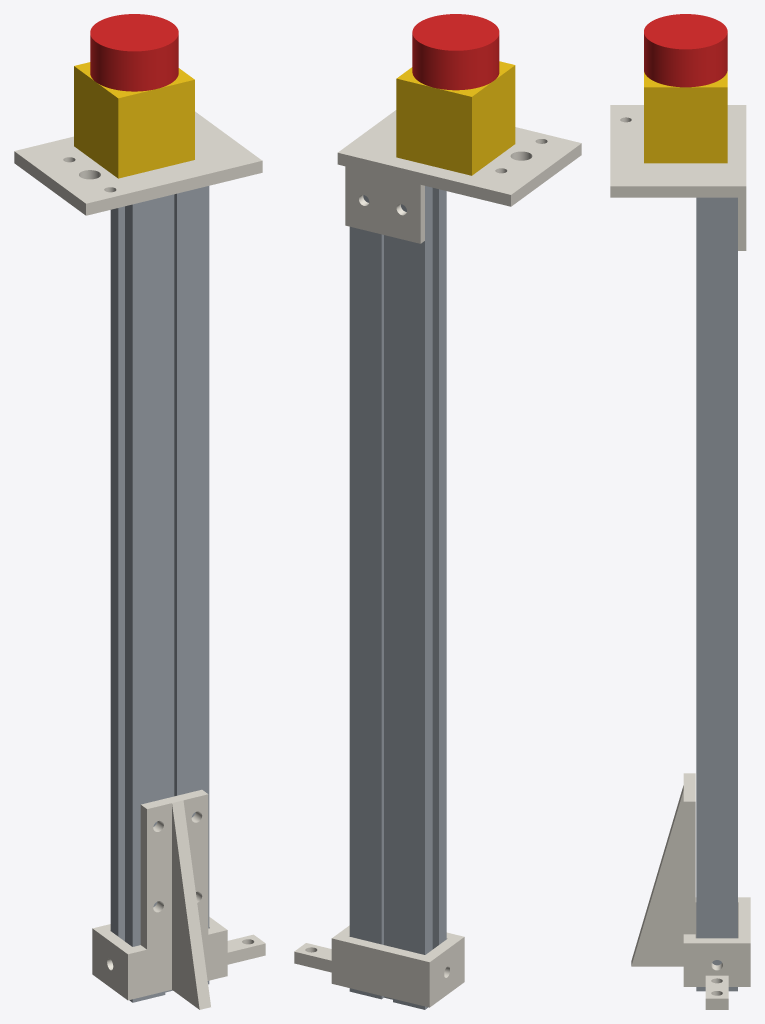
The model's file is mast.glb.
The picture shows the model from 3 angles, left to right: view 1: azimuth 30°, elevation 25°; view 2: azimuth 150°, elevation 25°; view 3: azimuth 270°, elevation 25°; orthographic projection. The views are drawn at different scales.
Parts seen in each view (by area): view 1: mast (×4); view 2: mast (×4); view 3: mast (×4).
Boxes of the visible parts, box(x1,y1,x2,y2) form: mast (×4): box(14, 14, 265, 1009); mast (×4): box(294, 14, 581, 1009); mast (×4): box(610, 14, 750, 1009).
Bounding box in the file's own units: 0.12 × 0.486 × 0.067.
